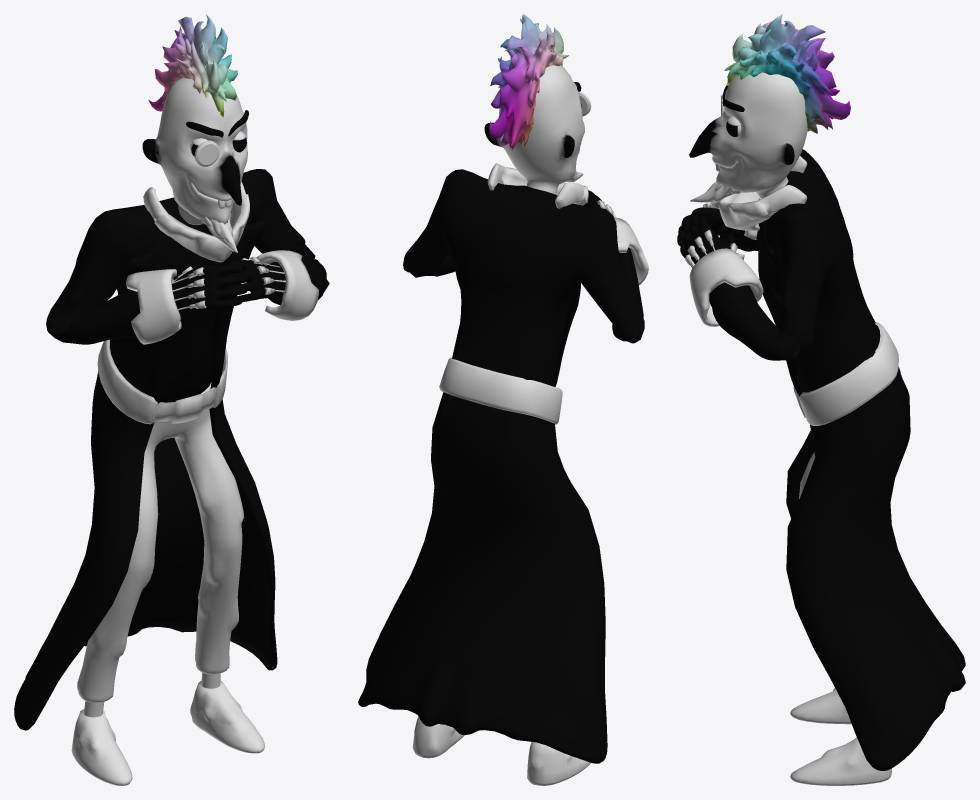
Rendered from CH2_Pose.fbx.
The picture shows the model from 3 angles, left to right: view 1: azimuth 30°, elevation 25°; view 2: azimuth 150°, elevation 25°; view 3: azimuth 270°, elevation 25°; orthographic projection. The views are drawn at different scales.
Parts seen in each view (by area): view 1: M_MED_Ruckus_Green_LOD0.mo.003, M_MED_Ruckus_Green_LOD0.mo.006, M_MED_Ruckus_Green_LOD0.mo.001, M_MED_Ruckus_Green_LOD0.mo.002, M_MED_EmeraldGlassGreen_LOD0.mo.002; view 2: M_MED_Ruckus_Green_LOD0.mo.003, M_MED_Ruckus_Green_LOD0.mo.006, M_MED_Ruckus_Green_LOD0.mo.001, M_MED_EmeraldGlassGreen_LOD0.mo.002; view 3: M_MED_Ruckus_Green_LOD0.mo.003, M_MED_Ruckus_Green_LOD0.mo.006, M_MED_Ruckus_Green_LOD0.mo.002, M_MED_EmeraldGlassGreen_LOD0.mo.002, M_MED_Ruckus_Green_LOD0.mo.001.
Boxes of the visible parts, bbox=[...] form: M_MED_Ruckus_Green_LOD0.mo.003: bbox=[14, 169, 315, 785]; M_MED_Ruckus_Green_LOD0.mo.006: bbox=[142, 14, 248, 252]; M_MED_Ruckus_Green_LOD0.mo.001: bbox=[55, 265, 248, 344]; M_MED_Ruckus_Green_LOD0.mo.002: bbox=[223, 250, 329, 320]; M_MED_EmeraldGlassGreen_LOD0.mo.002: bbox=[143, 181, 249, 262]; M_MED_Ruckus_Green_LOD0.mo.003: bbox=[358, 169, 644, 785]; M_MED_Ruckus_Green_LOD0.mo.006: bbox=[484, 14, 591, 194]; M_MED_Ruckus_Green_LOD0.mo.001: bbox=[588, 190, 648, 341]; M_MED_EmeraldGlassGreen_LOD0.mo.002: bbox=[487, 163, 588, 208]; M_MED_Ruckus_Green_LOD0.mo.003: bbox=[756, 149, 965, 785]; M_MED_Ruckus_Green_LOD0.mo.006: bbox=[689, 14, 850, 202]; M_MED_Ruckus_Green_LOD0.mo.002: bbox=[680, 215, 800, 360]; M_MED_EmeraldGlassGreen_LOD0.mo.002: bbox=[718, 156, 807, 230]; M_MED_Ruckus_Green_LOD0.mo.001: bbox=[677, 199, 760, 259].
Bounding box in the file's own units: 68.58 × 188 × 66.74.
